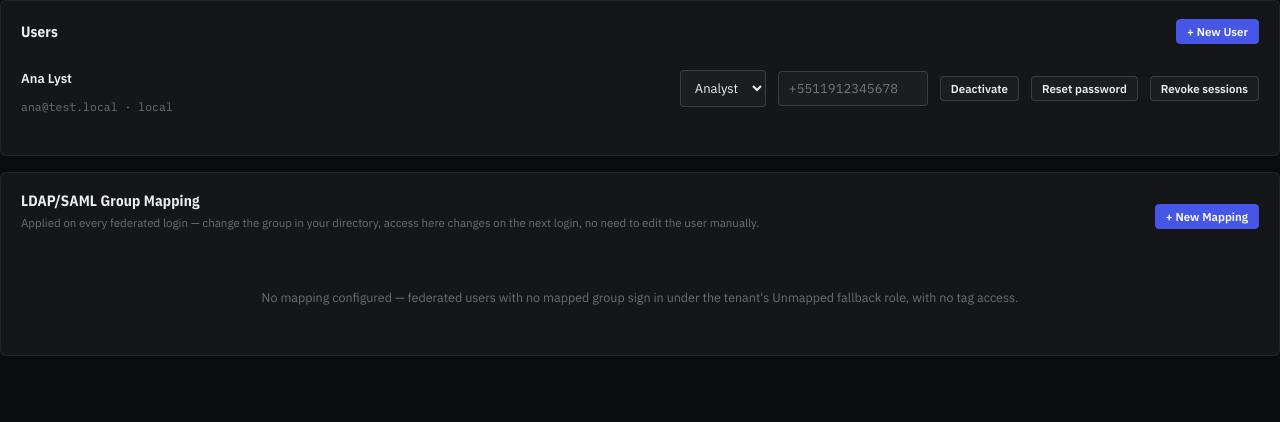
Test: UsersPanel › Revoke sessions does nothing when the inline confirm is cancelled
Expected: the text "Ana Lyst" is shown, x1=21 y1=70 x2=72 y2=87
Click the button "Revoke sessions" at (1204, 88), box x1=1150 y1=76 x2=1259 y2=101
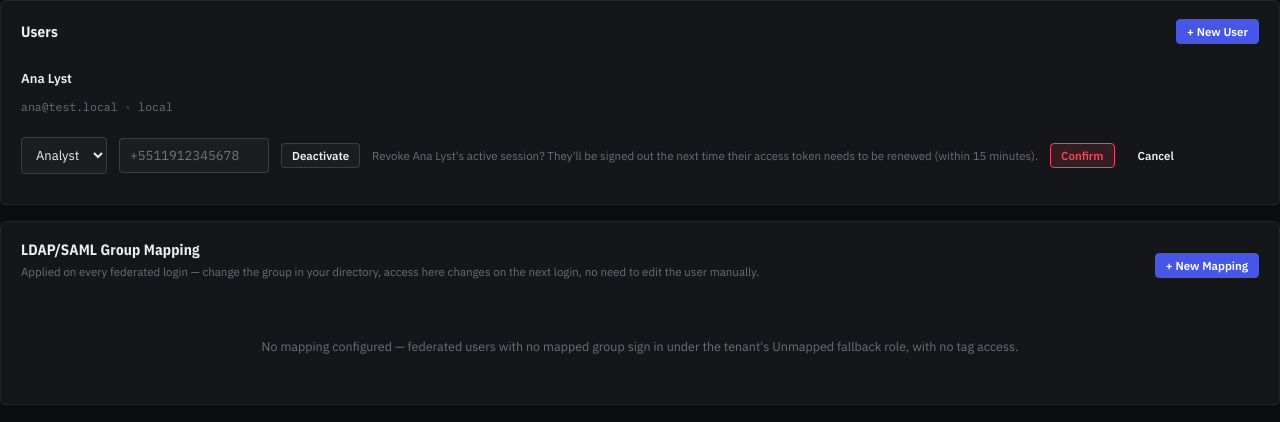
Click the button "Cancel" at (1156, 156), box x1=1127 y1=143 x2=1185 y2=168
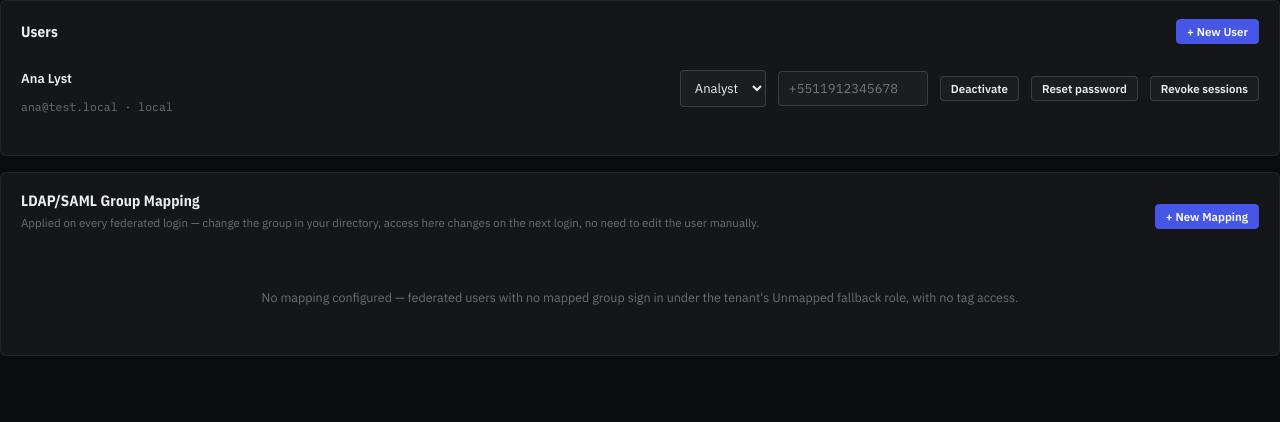
Now the button "Revoke sessions" is shown, box x1=1150 y1=76 x2=1259 y2=101
